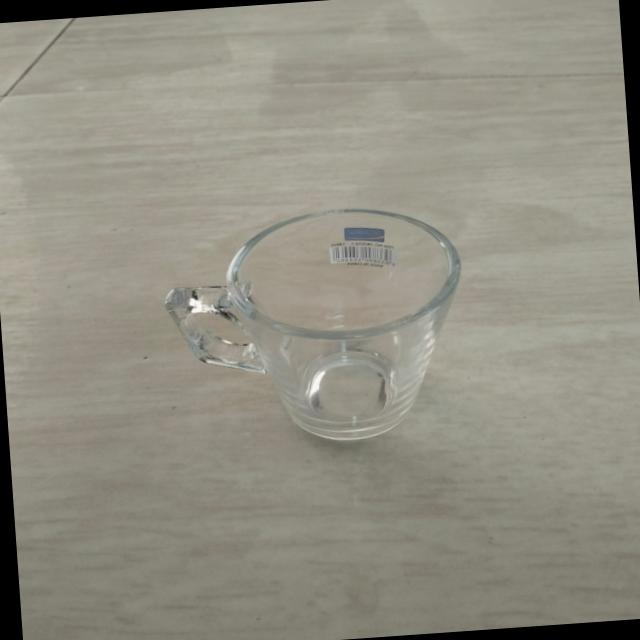glass-VX4N: (157, 197, 480, 458)
